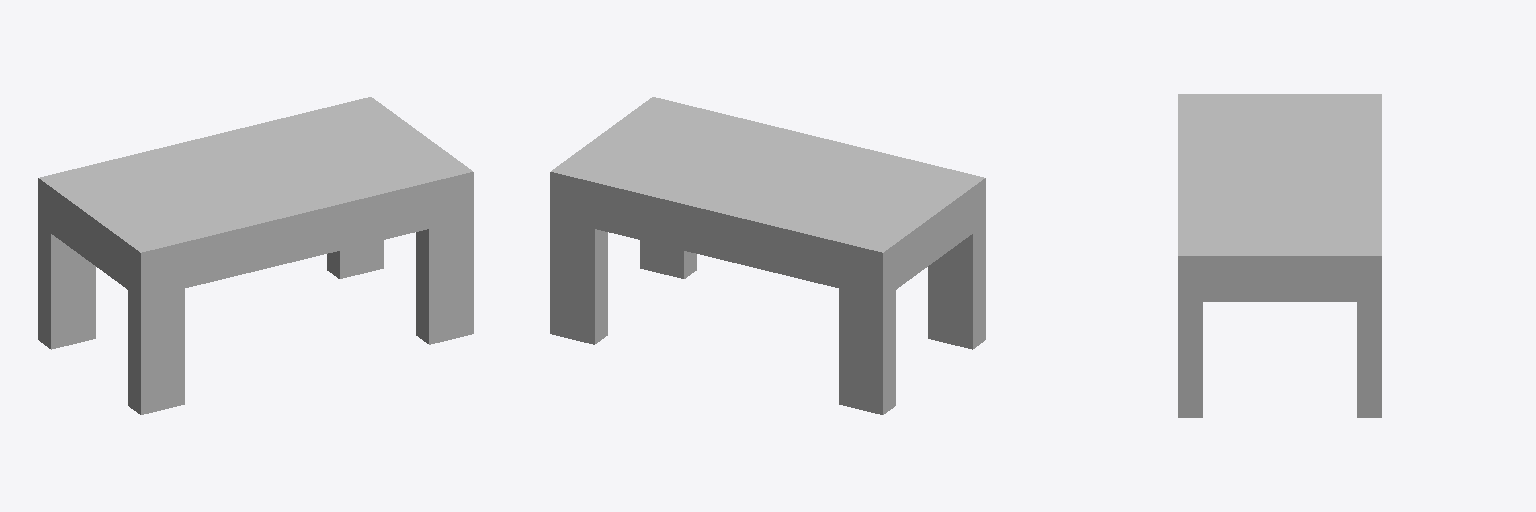
The model's file is table.obj.
3 views of the same model, side by side, from view 1: azimuth 30°, elevation 25°; view 2: azimuth 150°, elevation 25°; view 3: azimuth 270°, elevation 25° (orthographic).
Parts seen in each view (by area): view 1: object 1; view 2: object 1; view 3: object 1.
Boxes of the visible parts, box(x1,y1,x2,y2) form: object 1: box(38, 97, 473, 414); object 1: box(550, 97, 985, 414); object 1: box(1178, 94, 1381, 417).
Bounding box in the file's own units: 1.5 × 0.7 × 0.8.